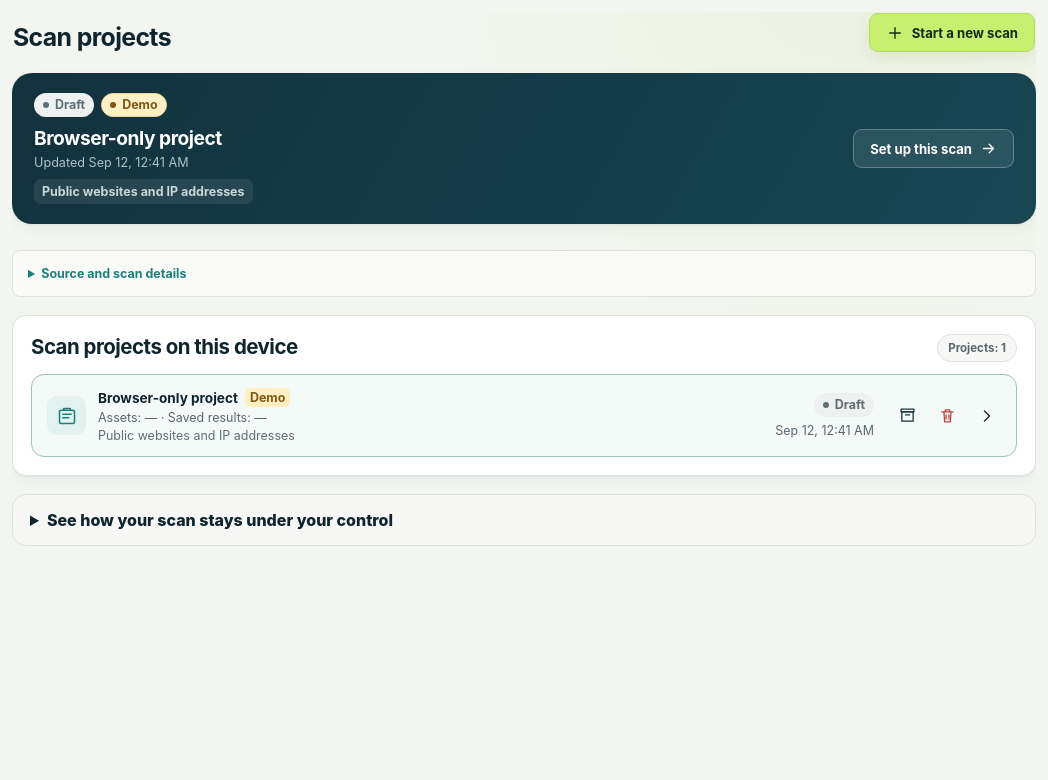
Test: a stored browser preview gets truthful localized removal copy in en
Click the button named "Begin removing Browser-only project from this browser" at (947, 416), box [928, 397, 966, 435]
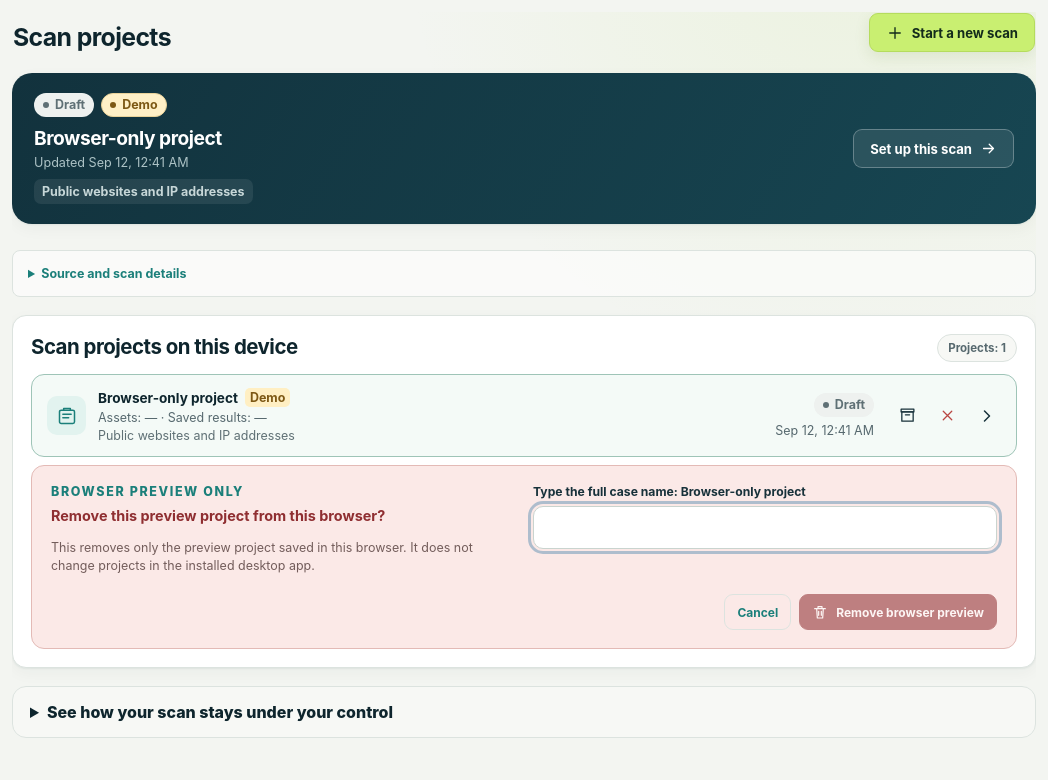
Expected: the form with class "case-delete-confirmation" is shown, [31, 465, 1017, 649]
Expected: the text with class "eyebrow" reads "Browser preview only", [51, 484, 244, 499]
Expected: the heading "Remove this preview project from this browser?" is shown, [51, 507, 385, 524]
